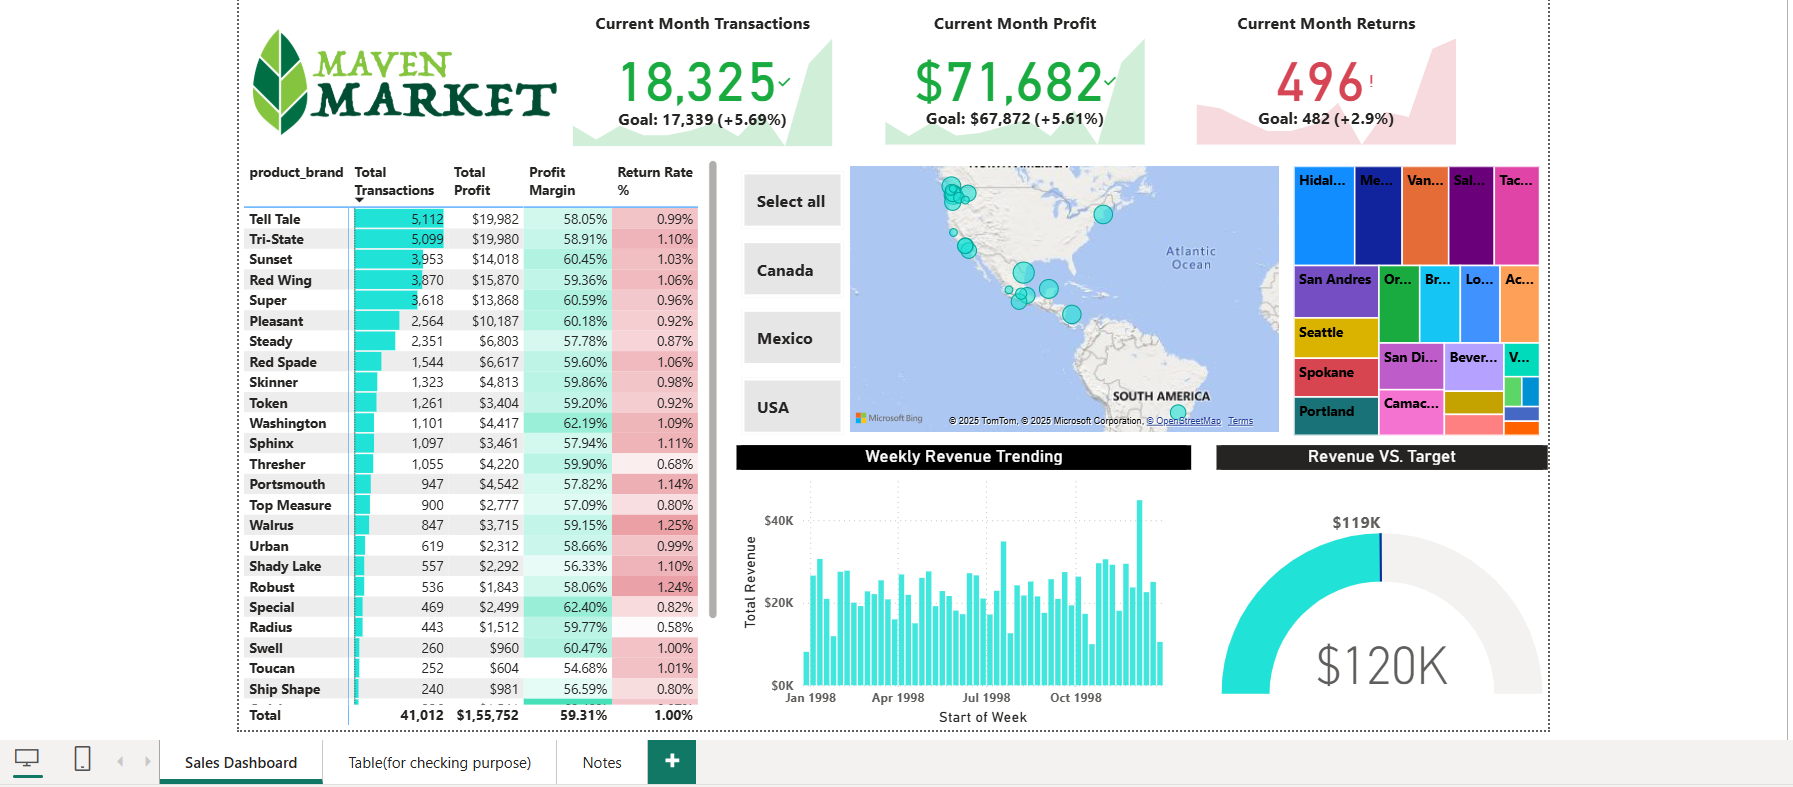

The page's visual inventory and layout, read from the dashboard file:
{"tool":"powerbi","page":{"name":"Sales Dashboard","canvas":[1280,720],"ordinal":0},"visuals":[{"type":"image","box":[0,0,321.7,171.7],"z":0},{"type":"pivotTable","fields":{"Values":["Measure.Total Transactions","Measure.Total Profit","Measure.Profit Margin","Measure.Return Rate %"],"Rows":["Products.product_brand"]},"box":[0,157.3,473.2,562.7],"z":1000},{"type":"kpi","title":"Current Month Transactions","fields":{"Indicator":["Measure.Total Transactions"],"TrendLine":["Calendar.Start of Month"],"Goal":["Measure.Last Month Transactions"]},"box":[321.7,17.3,264,137.1],"z":2000},{"type":"kpi","title":"Current Month Returns","fields":{"TrendLine":["Calendar.Start of Month"],"Indicator":["Measure.Total Returns"],"Goal":["Measure.Last Month Returns"]},"box":[932,17.3,264,135.6],"z":3000},{"type":"kpi","title":"Current Month Profit","fields":{"TrendLine":["Calendar.Start of Month"],"Indicator":["Measure.Total Profit"],"Goal":["Measure.Last Month Profit"]},"box":[626.9,17.3,264,135.6],"z":4000},{"type":"map","fields":{"Size":["Measure.Total Transactions"],"Category":["Stores.store_city"]},"box":[593.1,163.9,429.2,270.2],"z":5000},{"type":"advancedSlicerVisual","fields":{"Values":["Stores.store_country"]},"box":[486.7,168.8,110.1,270.2],"z":6000},{"type":"treemap","fields":{"Values":["Measure.Total Transactions"],"Group":["Stores.store_country","Stores.store_state","Stores.store_city"]},"box":[1026.8,163.6,250.3,273.1],"z":7000},{"type":"clusteredColumnChart","title":"Weekly Revenue Trending","fields":{"Category":["Calendar.Start of Week"],"Y":["Measure.Total Revenue"]},"box":[486.7,441.4,445.1,278.8],"z":8000},{"type":"gauge","title":"Revenue VS. Target","fields":{"Y":["Measure.Total Revenue"],"TargetValue":["Measure.Revenue Targt"]},"box":[956.3,441.4,324.1,278.8],"z":9000}]}

Visuals, with their boxes on the page's 1280x720 design canvas (x1, y1, x2, y2). These are canvas units, not pixel positions in the 1793x787 screenshot, which may show the page scaled, cropped or inside an application window:
image: (0,0,322,172)
pivotTable - Measure.Total Transactions x Measure.Total Profit: (0,157,473,720)
"Current Month Transactions" kpi: (322,17,586,154)
"Current Month Returns" kpi: (932,17,1196,153)
"Current Month Profit" kpi: (627,17,891,153)
map - Measure.Total Transactions x Stores.store_city: (593,164,1022,434)
advancedSlicerVisual - Stores.store_country: (487,169,597,439)
treemap - Measure.Total Transactions x Stores.store_country: (1027,164,1277,437)
"Weekly Revenue Trending" clusteredColumnChart: (487,441,932,720)
"Revenue VS. Target" gauge: (956,441,1280,720)
